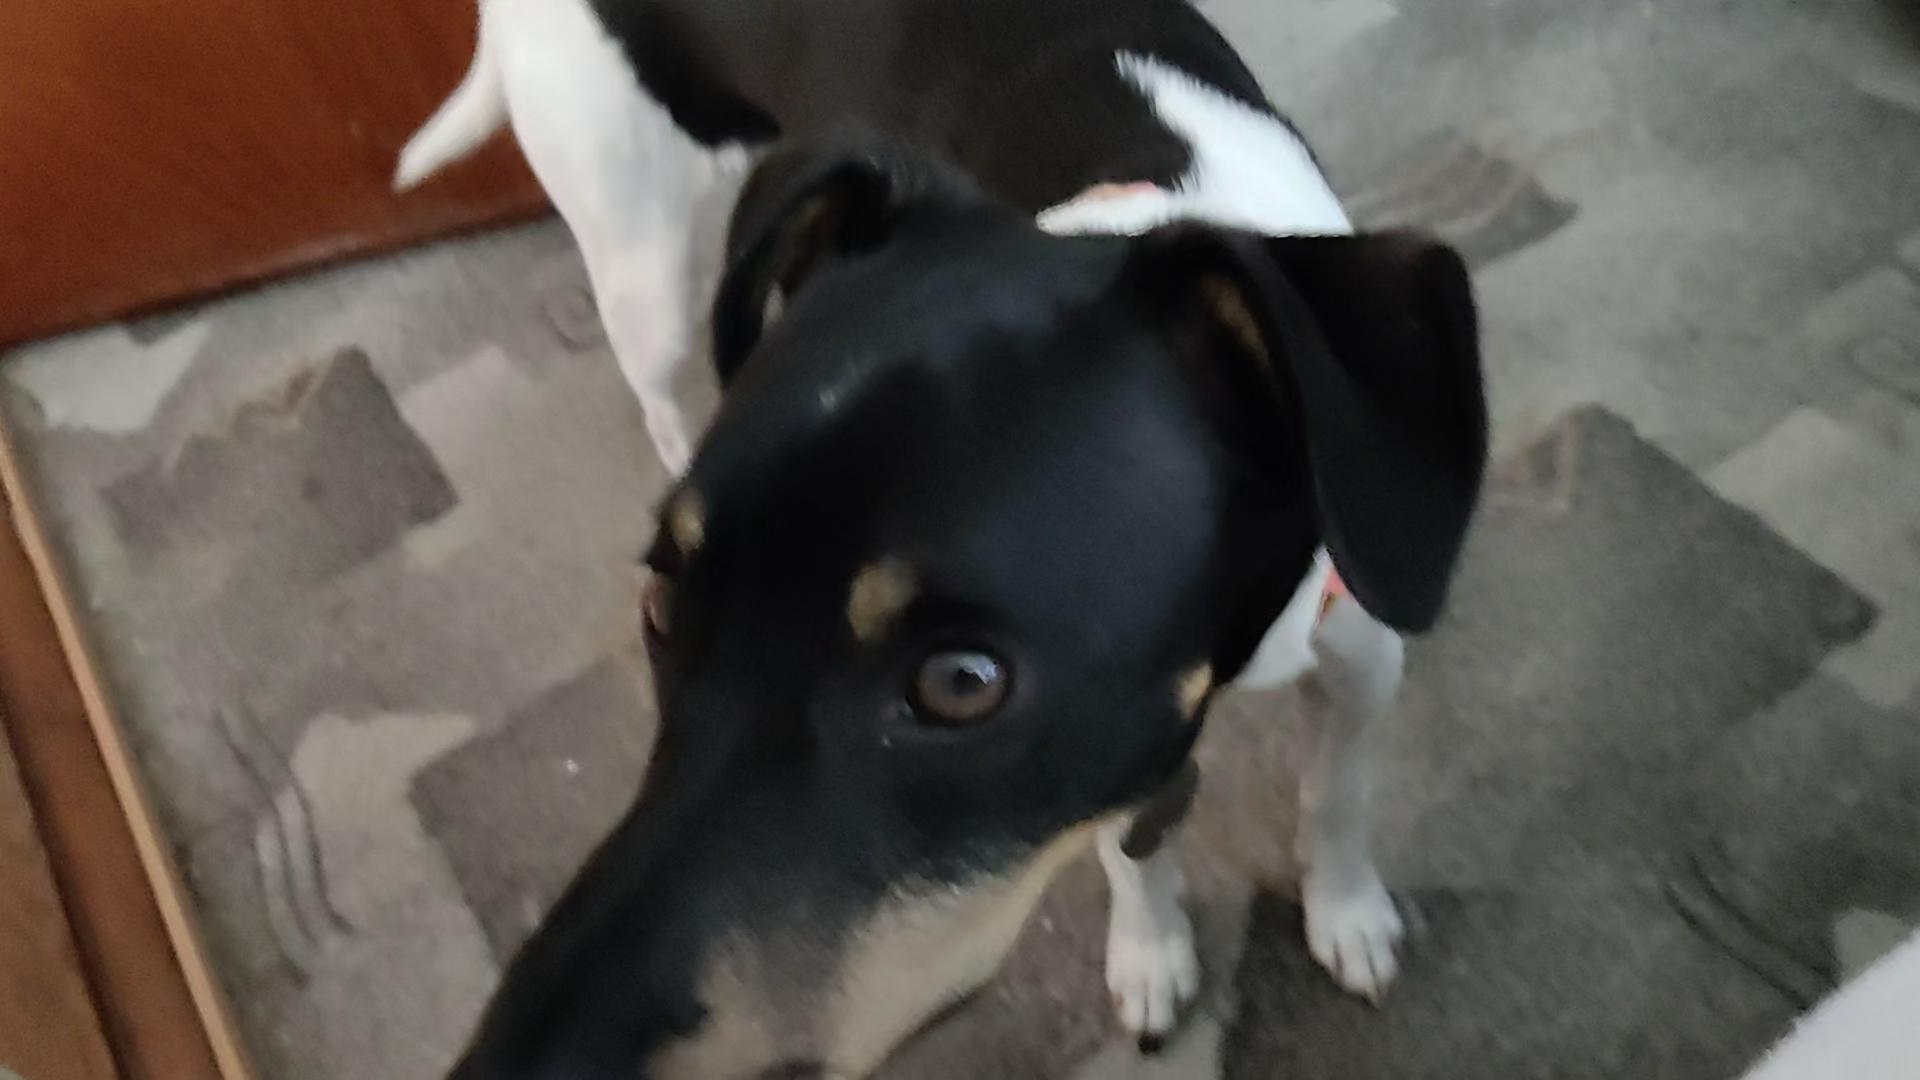Dog: (380, 0, 1493, 1079)
